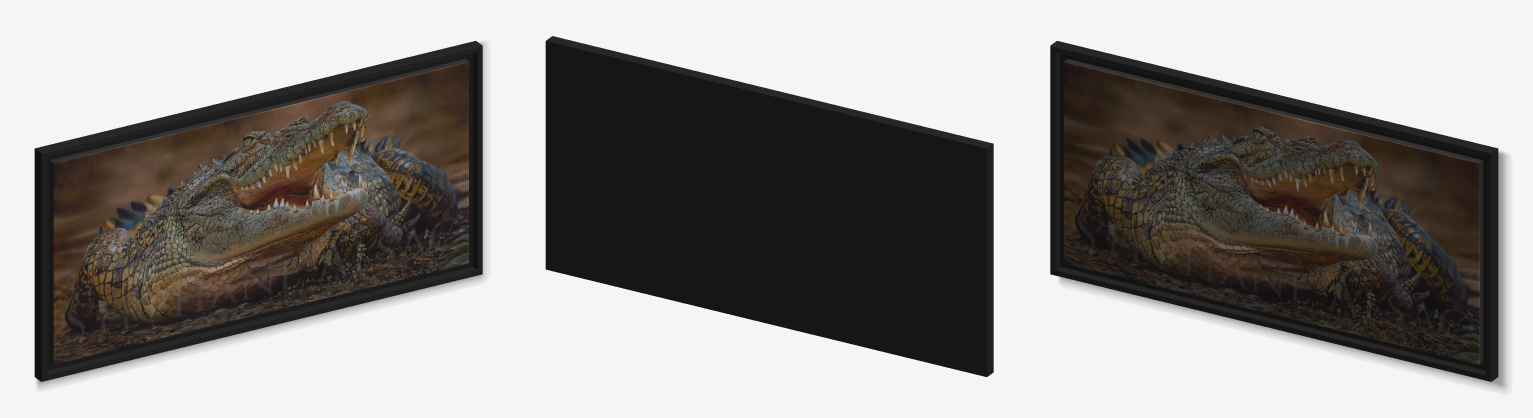
File: tableau-crocodile-grand-cd41ce83.glb
3 renders of one model, left to right at view 1: azimuth 30°, elevation 25°; view 2: azimuth 150°, elevation 25°; view 3: azimuth 330°, elevation 25°, orthographic.
Parts seen in each view (by area): view 1: Painting; view 2: Painting; view 3: Painting.
Part boxes in pixels (x1,y1,x2,y2): Painting: (34,41,484,386); Painting: (545,36,993,376); Painting: (1050,41,1506,389).
Size of the model in its own units: 1.63 by 0.876 by 0.04.
Materials: 5 (3 with a texture image).
